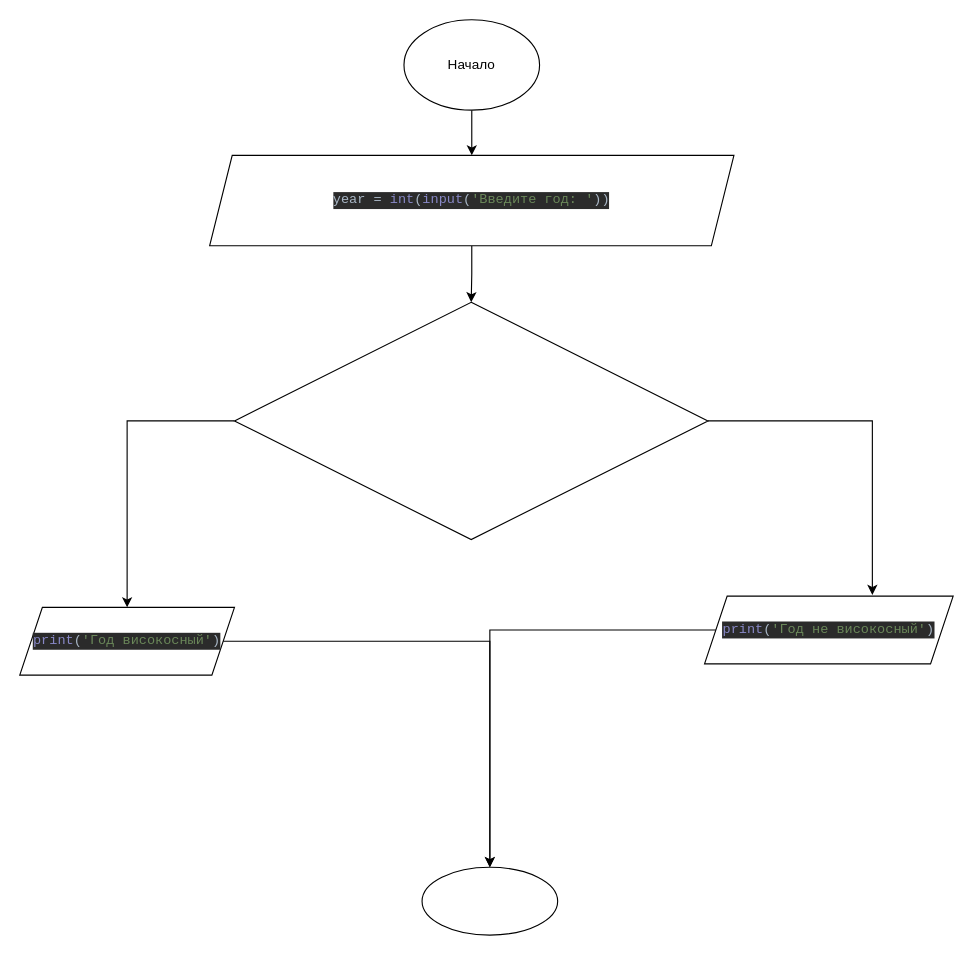
Image size: 973x955. Some labels were removed from this diagram. The shapes that lost their labels are listed below. From the top down, each one's centre as x and y in pixels, then its label:
At point 470,420: "if year % 4 == 0 and year % 100 != 0 and year % 400 :".
At point 489,900: "конец".
